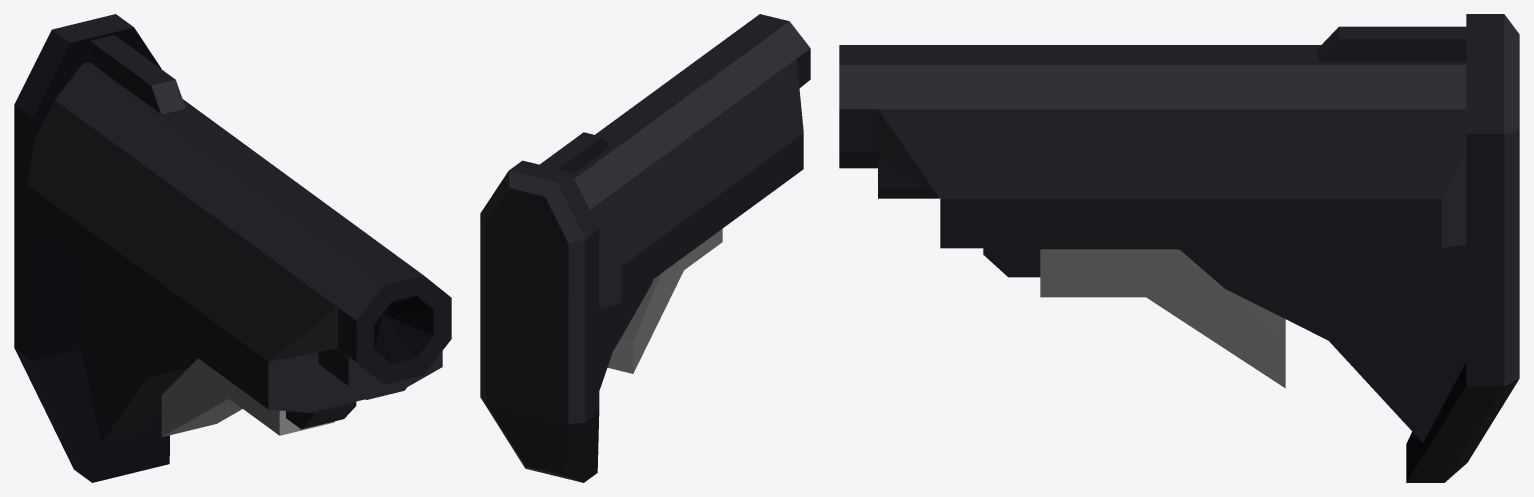
File: MW1_Stock_Rod_01.fbx
The picture shows the model from 3 angles, left to right: view 1: azimuth 30°, elevation 25°; view 2: azimuth 150°, elevation 25°; view 3: azimuth 270°, elevation 25°; orthographic projection. The views are drawn at different scales.
Visible parts, largest first — view 1: Stock_Rod_01; view 2: Stock_Rod_01; view 3: Stock_Rod_01.
Boxes of the visible parts, bbox=[...] form: Stock_Rod_01: bbox=[14, 14, 451, 482]; Stock_Rod_01: bbox=[480, 14, 810, 482]; Stock_Rod_01: bbox=[839, 14, 1519, 482].
Size of the model in its own units: 5.86 by 13.42 by 19.1.
